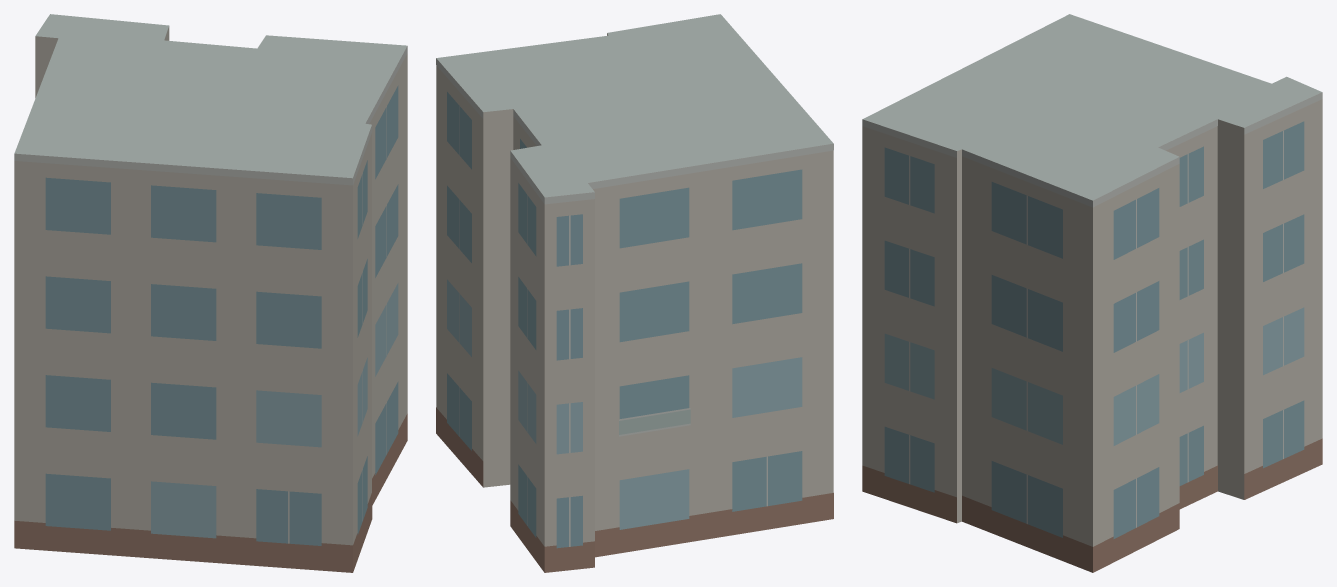
File: survey-upis-32670369.glb
3 renders of one model, left to right at view 1: azimuth 30°, elevation 25°; view 2: azimuth 150°, elevation 25°; view 3: azimuth 270°, elevation 25°, orthographic. The views are drawn at different scales.
Parts seen in each view (by area): view 1: survey-upis-32670369.tmp; view 2: survey-upis-32670369.tmp; view 3: survey-upis-32670369.tmp.
Boxes of the visible parts, bbox=[...] form: survey-upis-32670369.tmp: bbox=[14, 14, 407, 572]; survey-upis-32670369.tmp: bbox=[436, 14, 833, 572]; survey-upis-32670369.tmp: bbox=[862, 14, 1322, 572].
Size of the model in its own units: 14.26 by 13.25 by 14.85.
